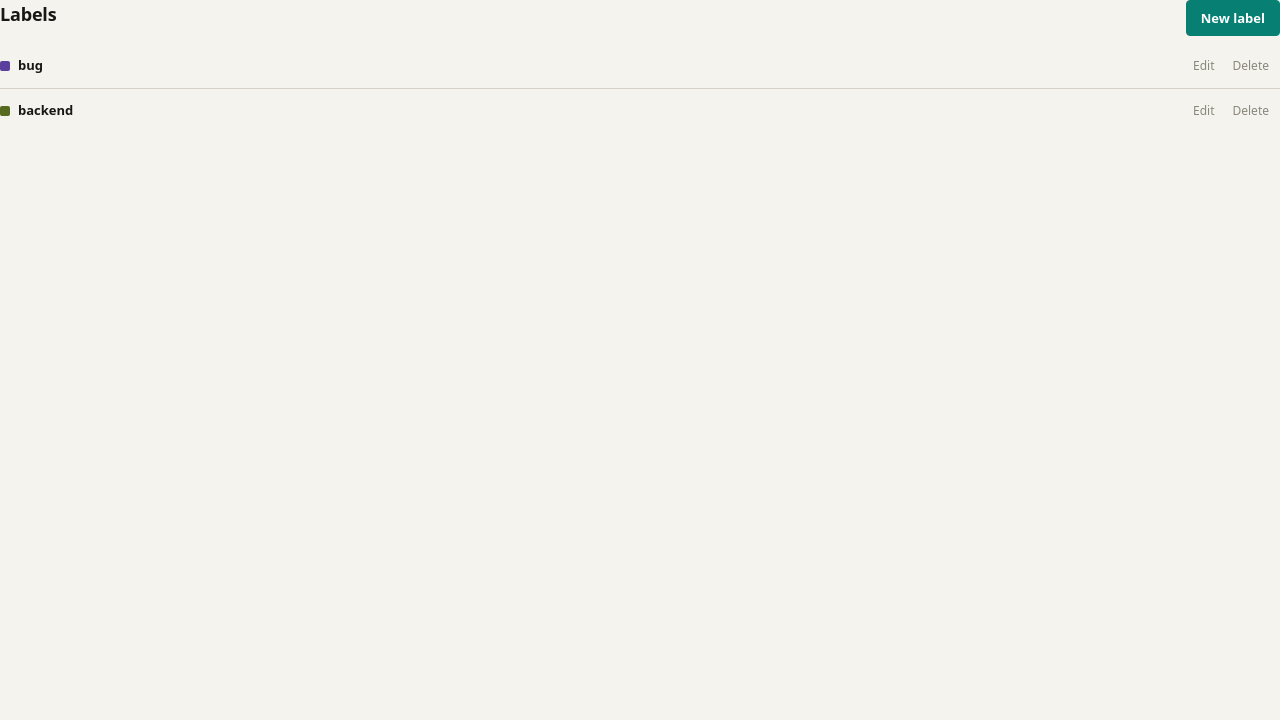
Test: accessibility › labels section with create dialog has no axe violations
This screenshot has width=1280, height=720.
What coordinates should you click on to do the following:
click the button "New label"
I would click on:
 (1233, 18)
Its box is [1186,0,1279,36].
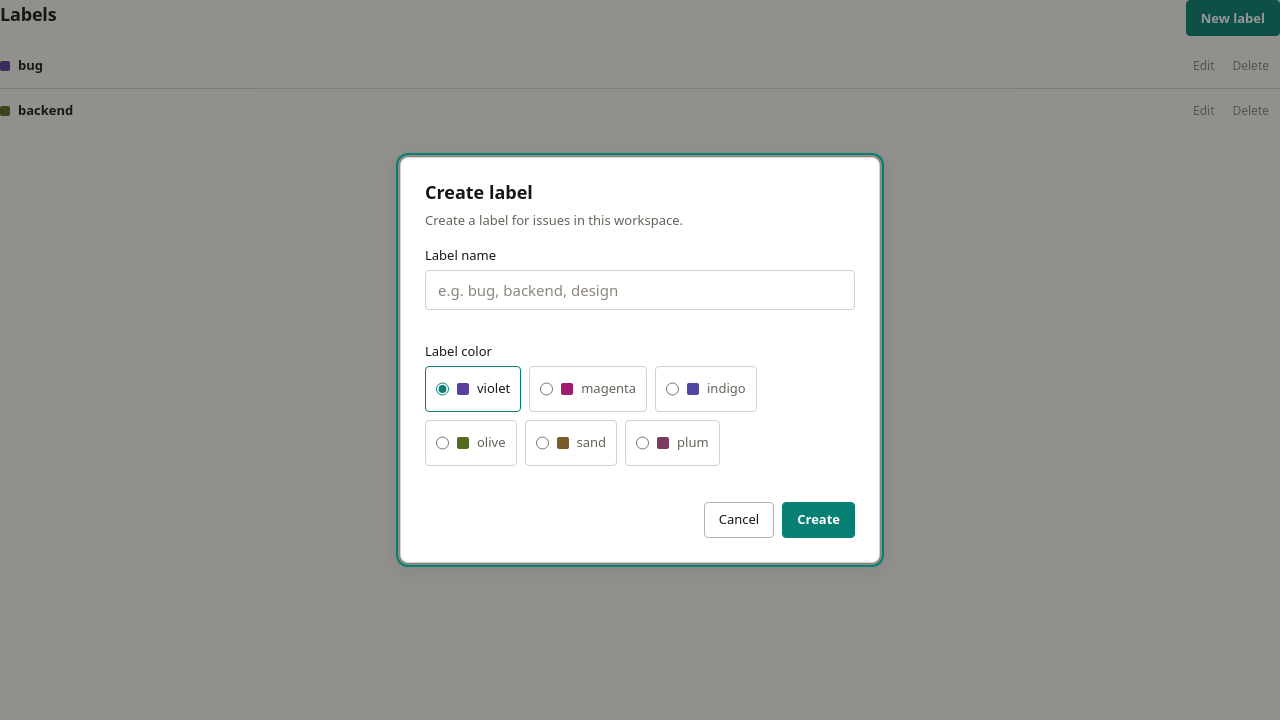
Check: the dialog is shown, box [400,157,880,563]
